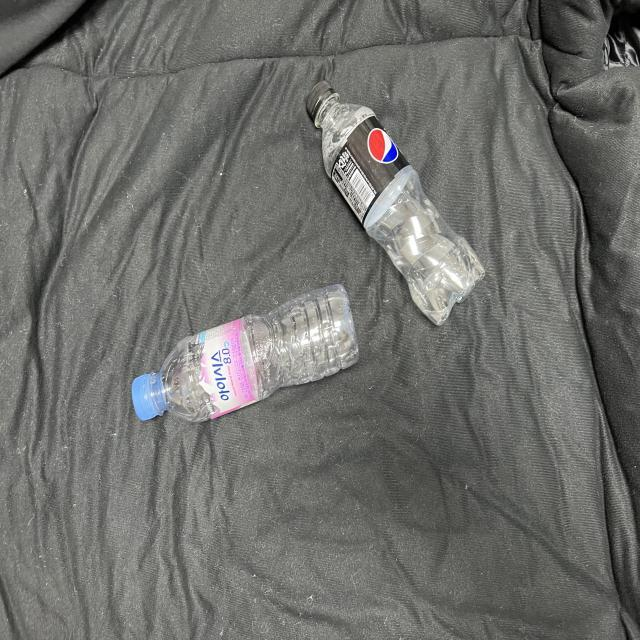good: (283, 57, 498, 350), (118, 271, 373, 453)
